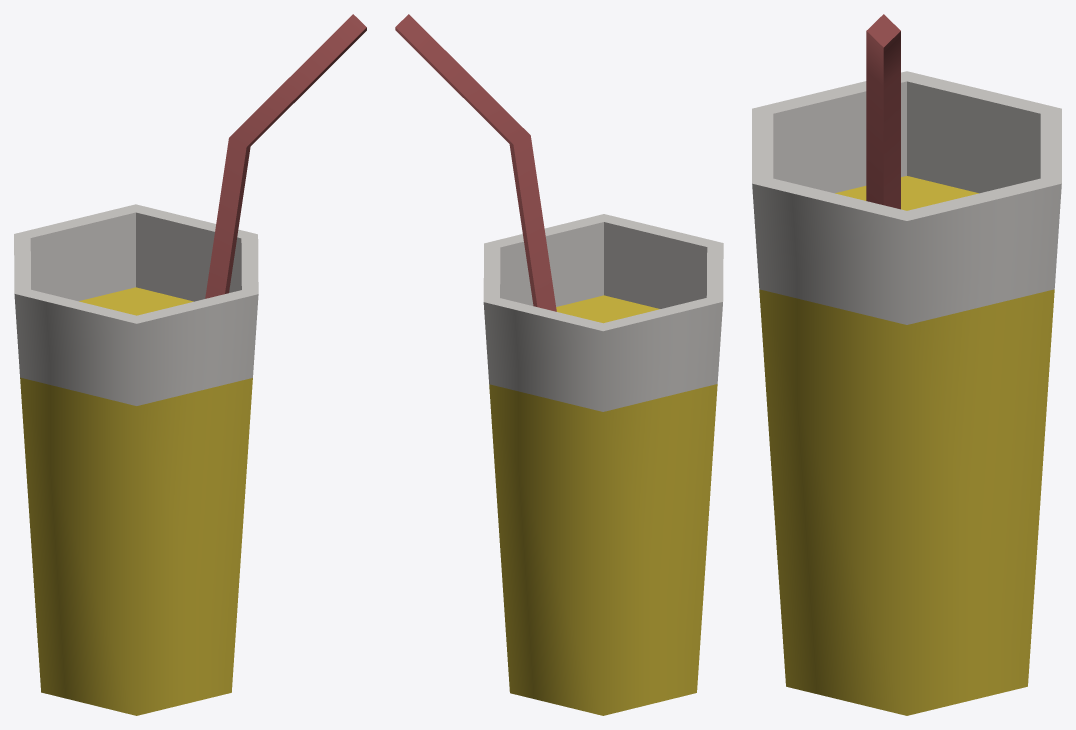
File: SM_lemonade_drink.fbx
The picture shows the model from 3 angles, left to right: view 1: azimuth 30°, elevation 25°; view 2: azimuth 150°, elevation 25°; view 3: azimuth 270°, elevation 25°; orthographic projection. The views are drawn at different scales.
Visible parts, largest first — view 1: Cylinder041; view 2: Cylinder041; view 3: Cylinder041.
Part boxes in pixels (x1=…): Cylinder041: x1=14, y1=14, x2=366, y2=715; Cylinder041: x1=395, y1=14, x2=723, y2=715; Cylinder041: x1=752, y1=14, x2=1061, y2=715.
Bounding box in the file's own units: 7.39 × 12.57 × 4.57.
